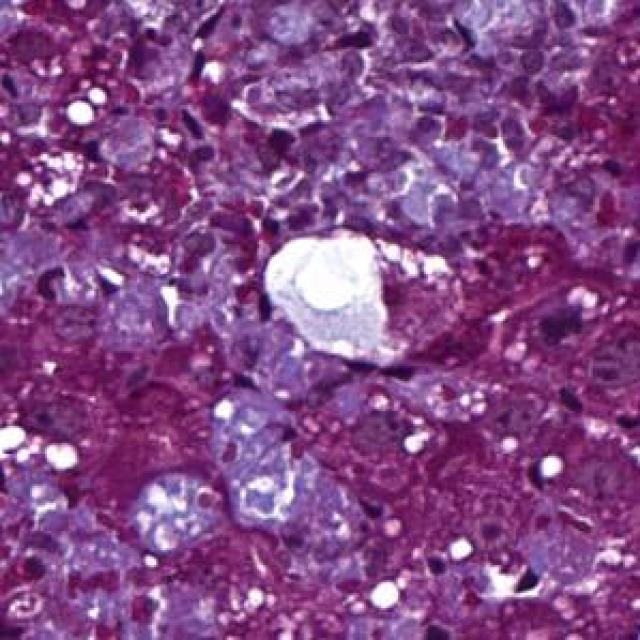ballooning: (261, 229, 469, 375)
